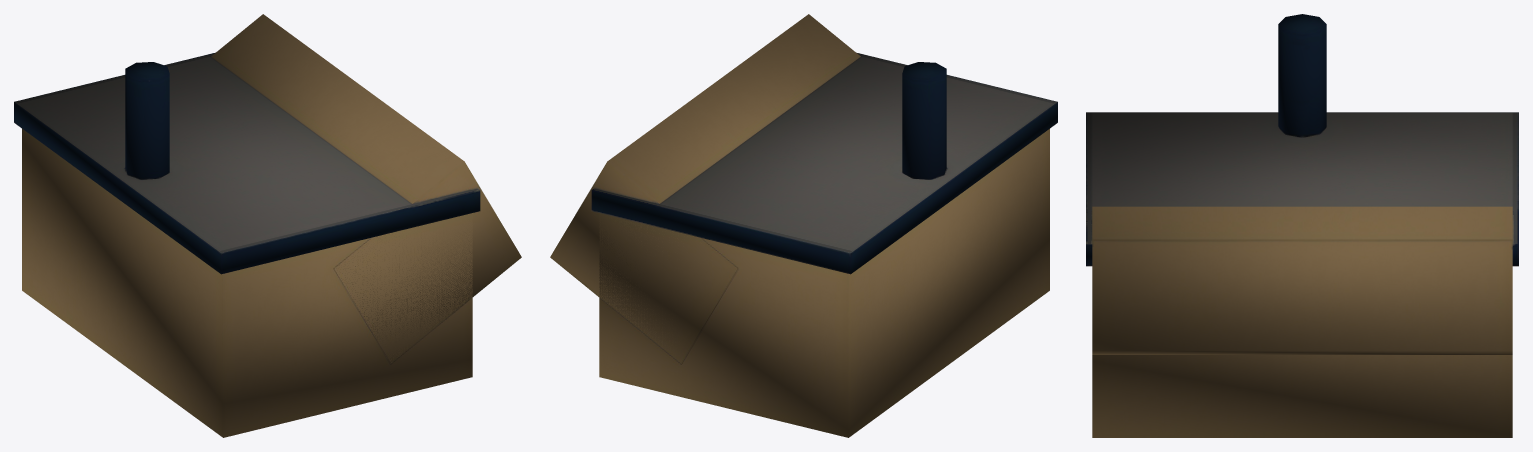
Rendered from wheel-chock-body-tripo-original.glb.
The picture shows the model from 3 angles, left to right: view 1: azimuth 30°, elevation 25°; view 2: azimuth 150°, elevation 25°; view 3: azimuth 270°, elevation 25°; orthographic projection. The views are drawn at different scales.
Visible parts, largest first — view 1: Authored_surface_020; view 2: Authored_surface_020; view 3: Authored_surface_020.
Part boxes in pixels (<box>): Authored_surface_020: <box>14,14,521,437</box>; Authored_surface_020: <box>550,14,1057,437</box>; Authored_surface_020: <box>1086,14,1518,437</box>.
Bounding box in the file's own units: 0.8461 × 0.7639 × 1.
1 material, 1 textured.
